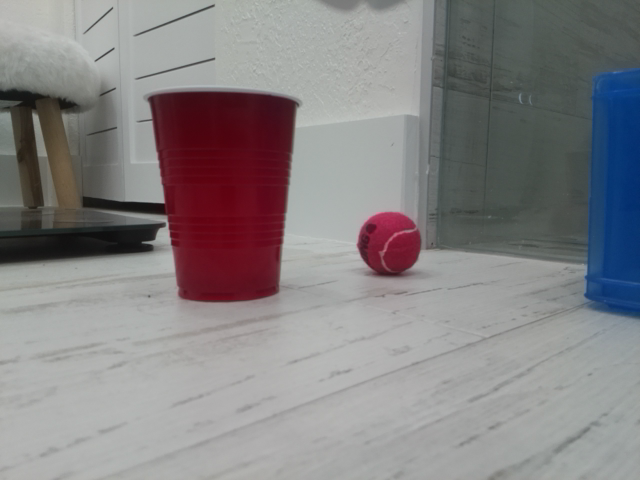red-ball: (357, 210, 422, 277)
